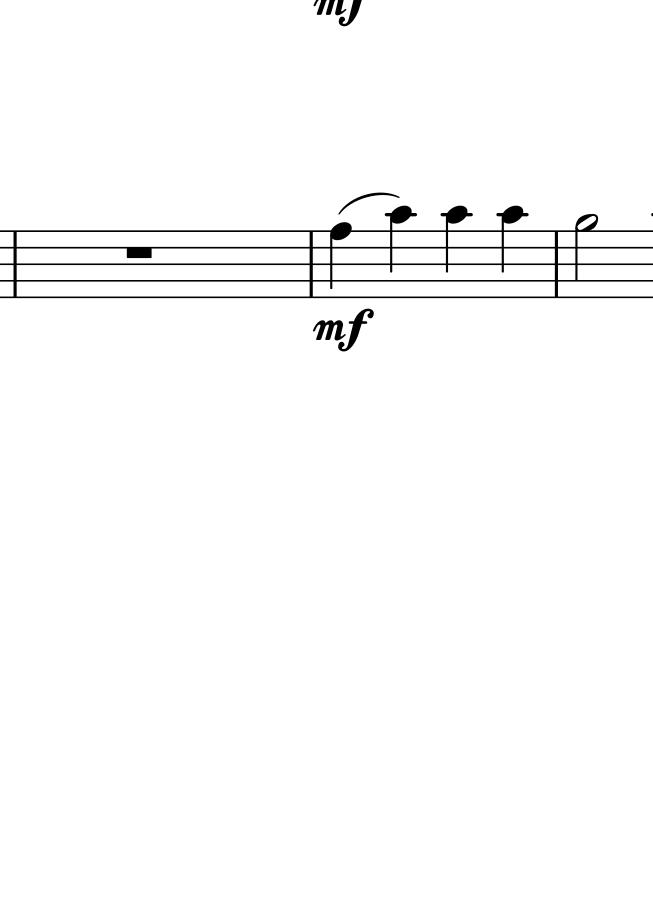2_9: (571, 213, 600, 300)
4_10: (386, 205, 418, 301), (497, 204, 527, 301), (442, 205, 472, 301)
4_8: (327, 221, 356, 301)
Rests1: (122, 243, 159, 262)
Single_barline: (548, 228, 564, 300), (302, 231, 319, 296), (6, 229, 21, 297)
Slur: (336, 190, 399, 215)
mf: (315, 307, 374, 356)
